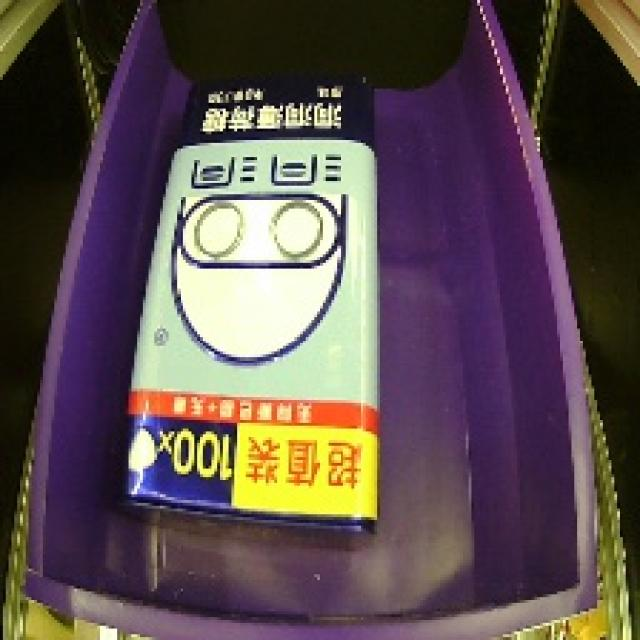metal: (101, 57, 398, 552)
